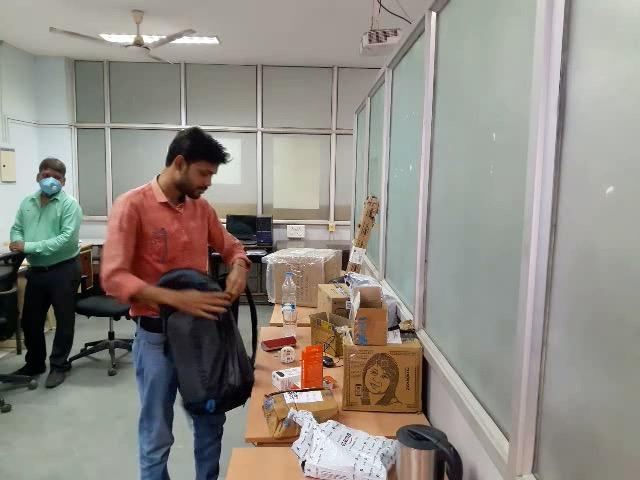shoplifting: (73, 221, 423, 432)
